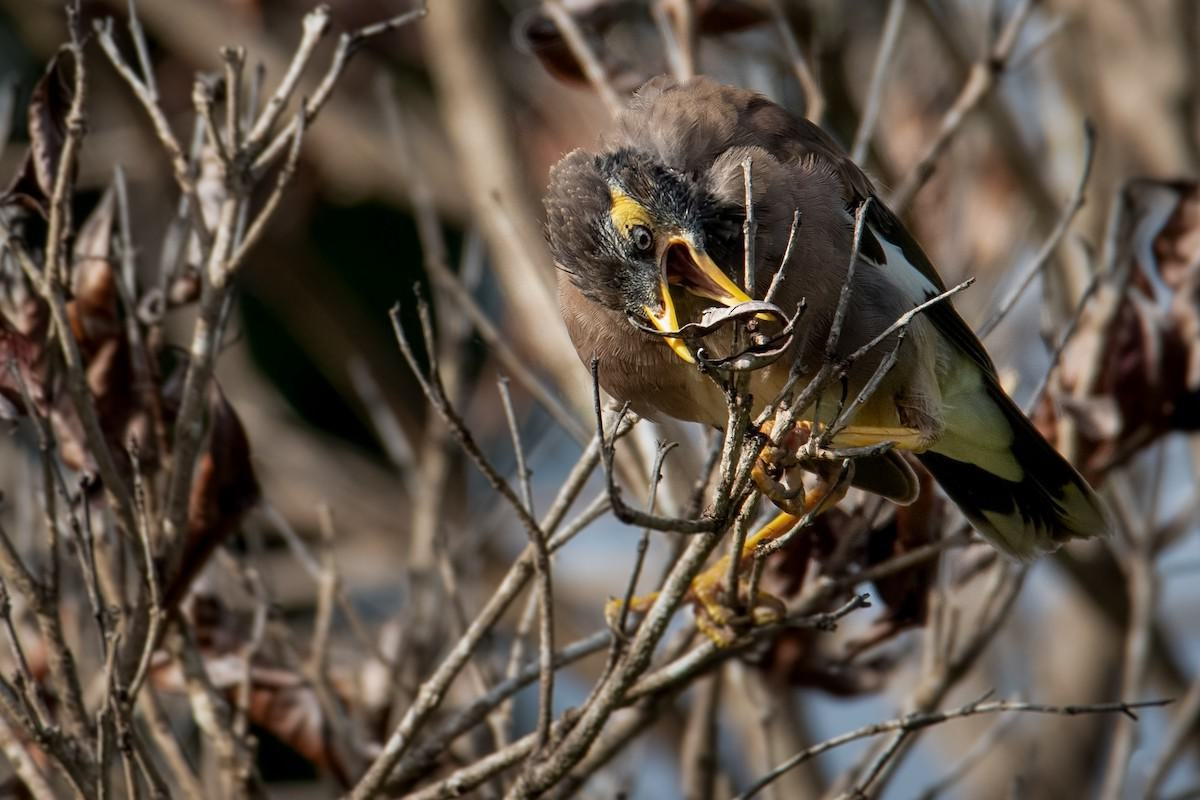myna: (529, 62, 1011, 531)
